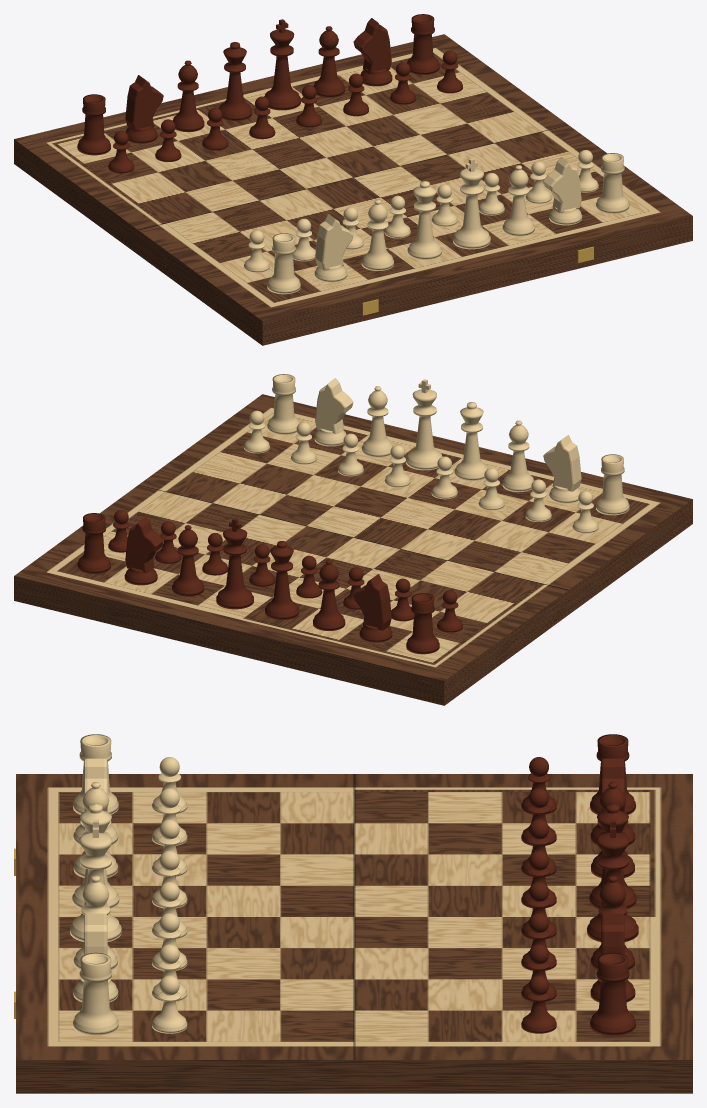
The model's file is philidor-3d-noyer-pliable-44.glb.
The picture shows the model from 3 angles, top to bottom: view 1: azimuth 30°, elevation 25°; view 2: azimuth 150°, elevation 25°; view 3: azimuth 270°, elevation 25°; orthographic projection. The views are drawn at different scales.
Parts seen in each view (by area): view 1: noyer-pliable-44; view 2: noyer-pliable-44; view 3: noyer-pliable-44.
Boxes of the visible parts, <box> form: noyer-pliable-44: <box>14,14,692,345</box>; noyer-pliable-44: <box>14,374,692,705</box>; noyer-pliable-44: <box>14,734,692,1093</box>.
Size of what is drawn, in the model's own units: 0.44 by 0.1042 by 0.4412.
Materials: 5 (2 with a texture image).
